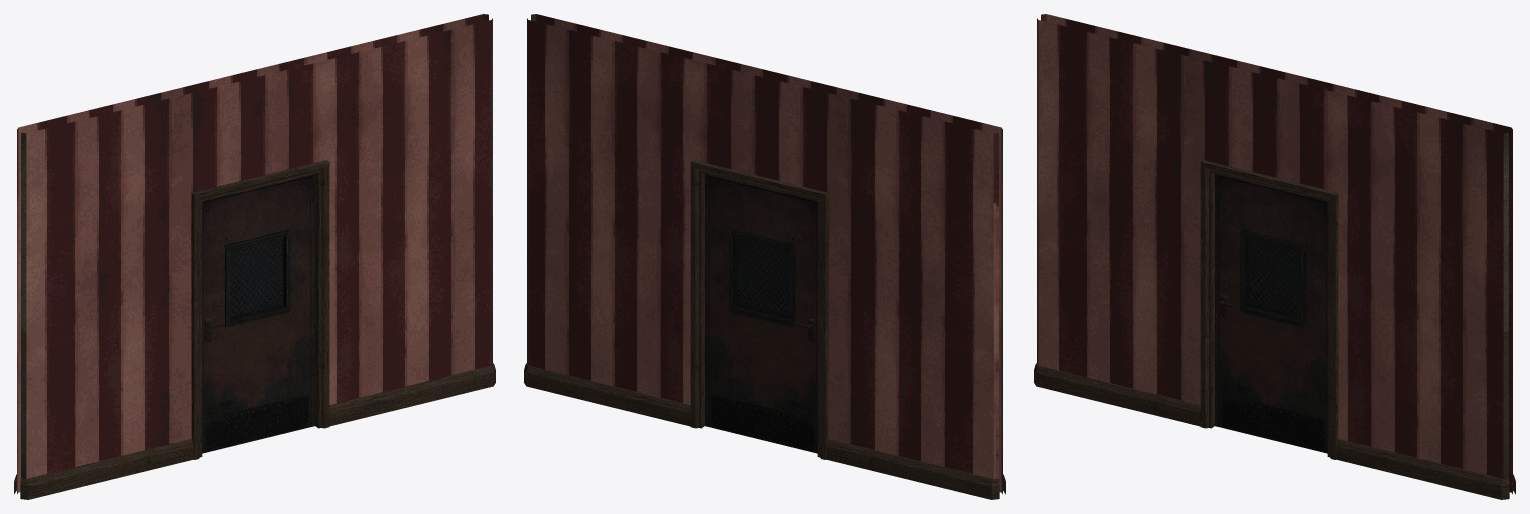
Rendered from CircusTent_Doorway_1.glb.
The picture shows the model from 3 angles, left to right: view 1: azimuth 30°, elevation 25°; view 2: azimuth 150°, elevation 25°; view 3: azimuth 330°, elevation 25°; orthographic projection.
Parts seen in each view (by area): view 1: CircusTent_Doorway_1, door_4; view 2: CircusTent_Doorway_1, door_4; view 3: CircusTent_Doorway_1, door_4.
Part boxes in pixels (x1,y1,x2,y2): CircusTent_Doorway_1: (14,14,495,499); door_4: (202,174,314,453); CircusTent_Doorway_1: (524,14,1005,499); door_4: (705,174,817,453); CircusTent_Doorway_1: (1034,14,1515,499); door_4: (1215,174,1327,453).
Size of the model in its own units: 4.09 by 3 by 0.2.
Materials: 5 (5 with a texture image).
